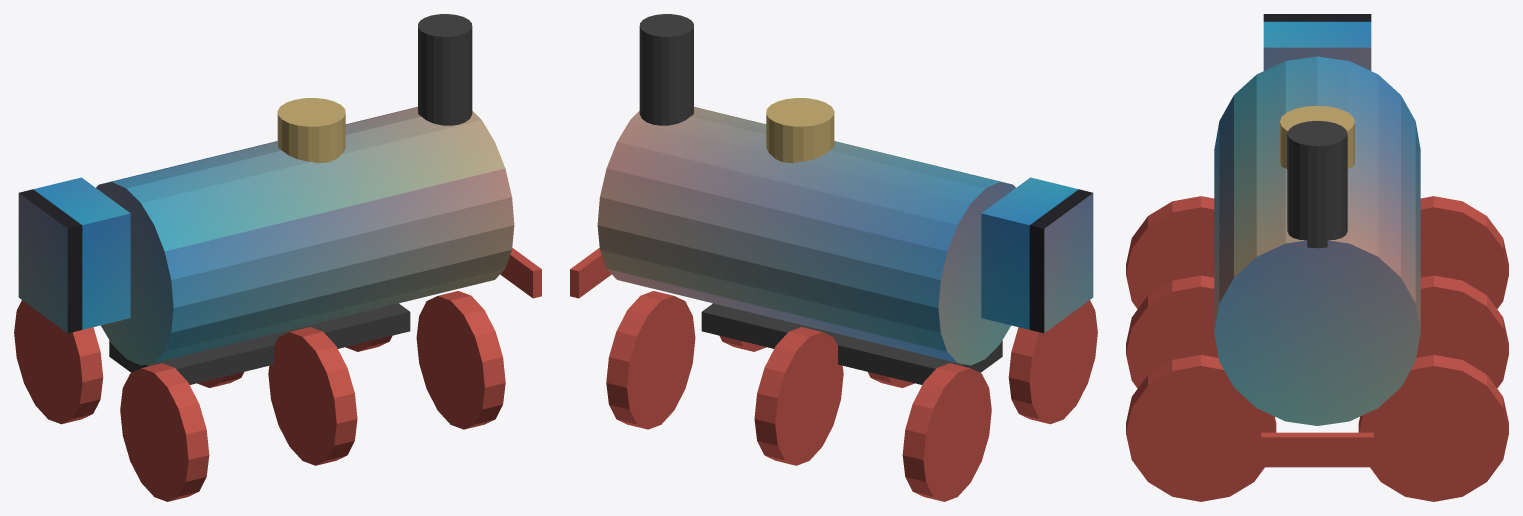
Rendered from Locomotive_textured.glb.
3 views of the same model, side by side, from view 1: azimuth 30°, elevation 25°; view 2: azimuth 150°, elevation 25°; view 3: azimuth 270°, elevation 25° (orthographic). The views are drawn at different scales.
Parts seen in each view (by area): view 1: LocomotiveStandIn; view 2: LocomotiveStandIn; view 3: LocomotiveStandIn.
Boxes of the visible parts, x1,y1,x2,y2 form: LocomotiveStandIn: (14, 14, 541, 501); LocomotiveStandIn: (570, 14, 1097, 501); LocomotiveStandIn: (1126, 14, 1508, 501).
Size of the model in its own units: 3.19 by 2.25 by 2.04.
4 materials, 1 textured.
